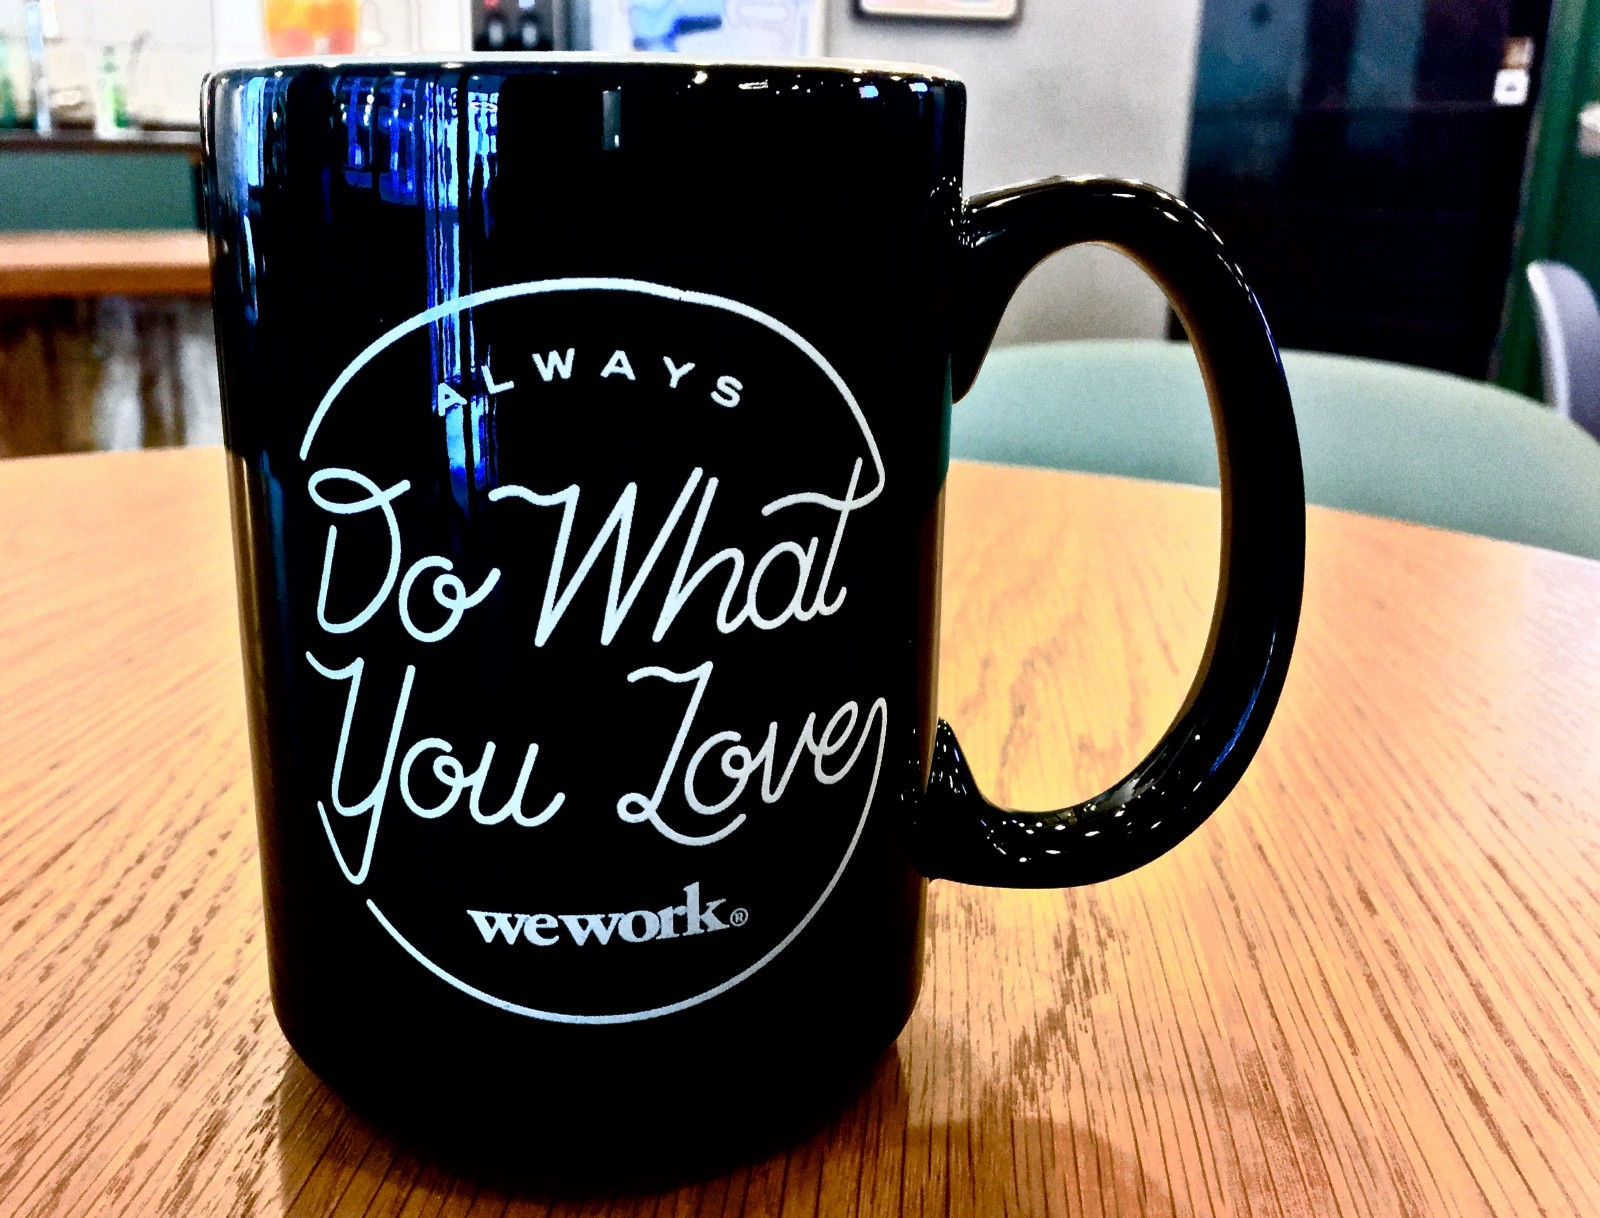wework: (460, 876, 732, 949)
